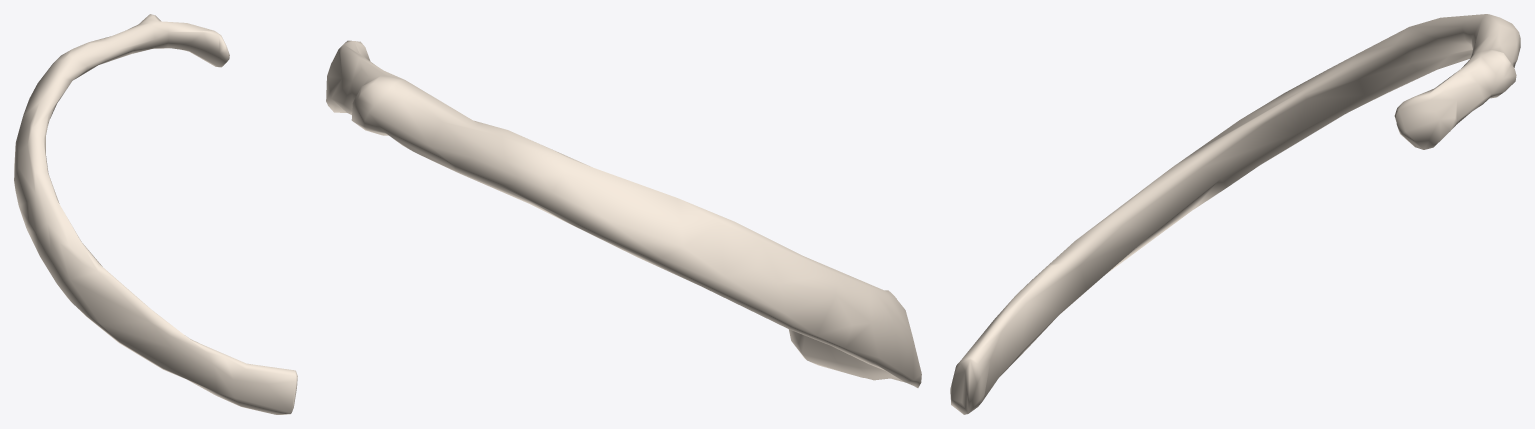
File: right_rib_3.glb
3 views of the same model, side by side, from view 1: azimuth 30°, elevation 25°; view 2: azimuth 150°, elevation 25°; view 3: azimuth 270°, elevation 25° (orthographic). The views are drawn at different scales.
Visible parts, largest first — view 1: Rib (3rd).r; view 2: Rib (3rd).r; view 3: Rib (3rd).r.
Part boxes in pixels (left/top/right/bottom): Rib (3rd).r: left=14, top=14, right=297, bottom=414; Rib (3rd).r: left=326, top=40, right=921, bottom=387; Rib (3rd).r: left=950, top=14, right=1520, bottom=414.
Bounding box in the file's own units: 0.0965 × 0.1051 × 0.1385.
